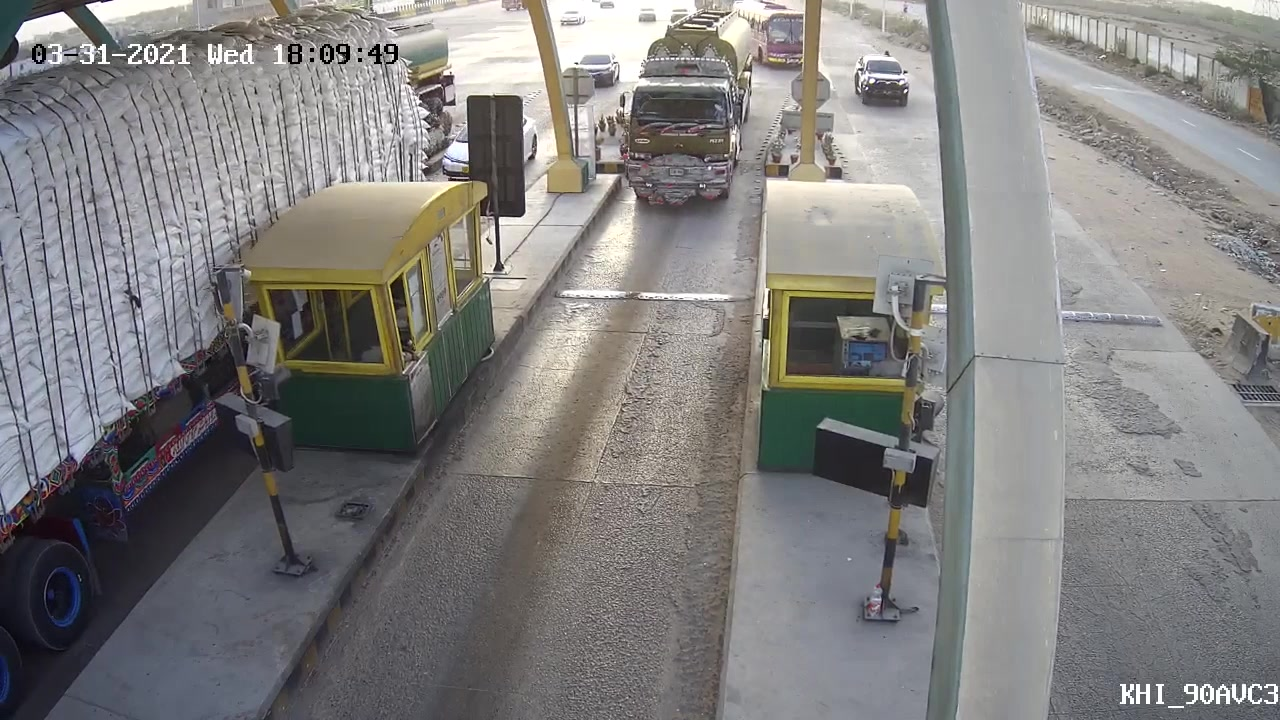F6: (613, 9, 768, 222)
